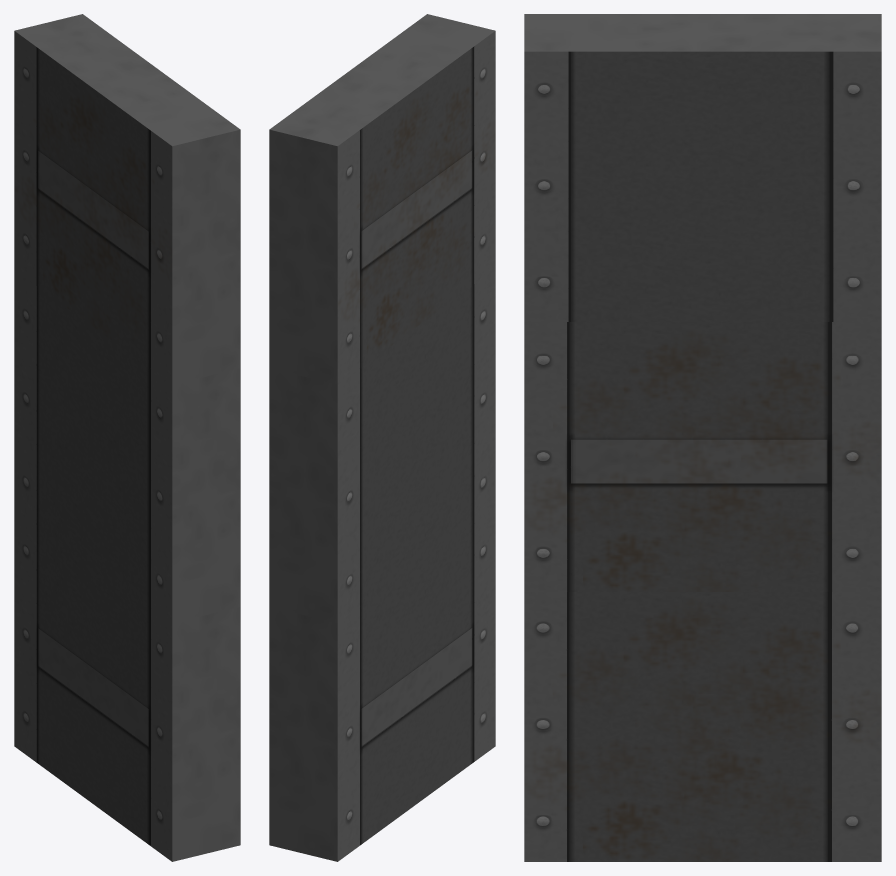
File: FactoryWall_Model.FBX
The picture shows the model from 3 angles, left to right: view 1: azimuth 30°, elevation 25°; view 2: azimuth 150°, elevation 25°; view 3: azimuth 270°, elevation 25°; orthographic projection. The views are drawn at different scales.
Parts seen in each view (by area): view 1: Box001; view 2: Box001; view 3: Box001.
Boxes of the visible parts, <box> form: Box001: <box>14,14,240,861</box>; Box001: <box>269,14,495,861</box>; Box001: <box>524,14,881,861</box>.
Bounding box in the file's own units: 1 × 4 × 10.
1 material, 1 textured.
